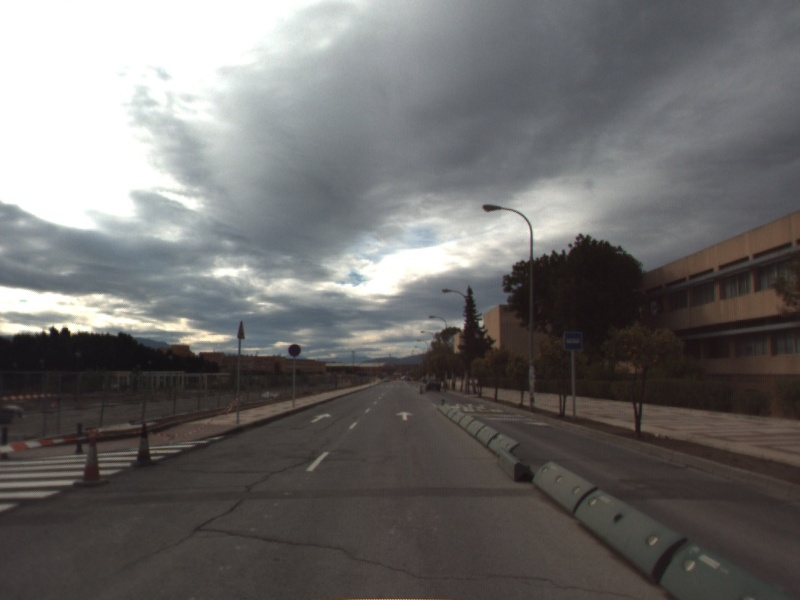STRAIGHT: (308, 411, 334, 424), (394, 409, 416, 422)
